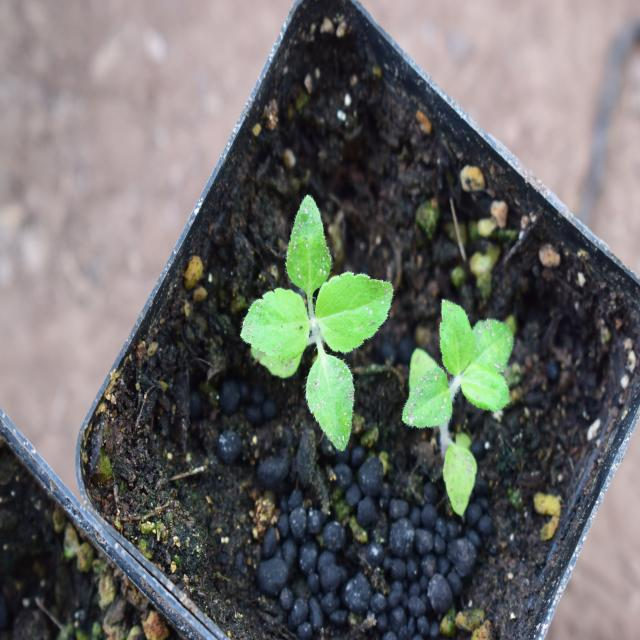billygoat_weed: (231, 187, 394, 443), (400, 281, 519, 489)
